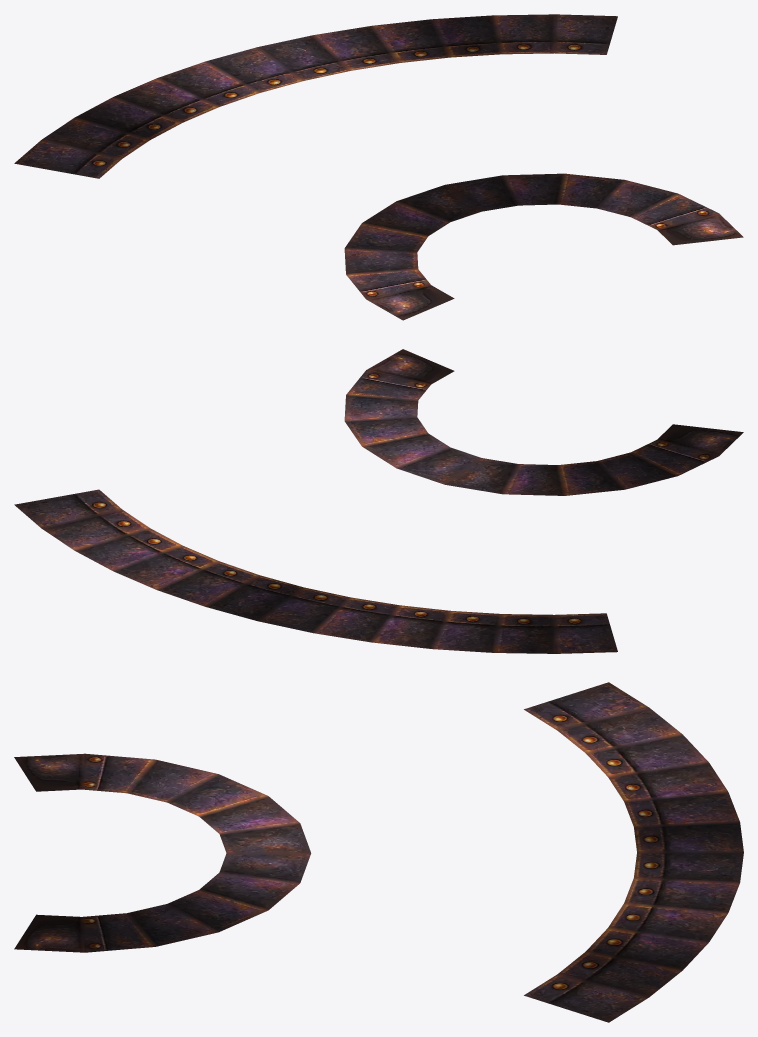
File: cauldron_fold.glb
3 views of the same model, one above another, from view 1: azimuth 30°, elevation 25°; view 2: azimuth 150°, elevation 25°; view 3: azimuth 270°, elevation 25° (orthographic). The views are drawn at different scales.
Parts seen in each view (by area): view 1: GEO-cauldron; view 2: GEO-cauldron; view 3: GEO-cauldron.
Part boxes in pixels (left/top/right/bottom): GEO-cauldron: left=14, top=14, right=743, bottom=320; GEO-cauldron: left=14, top=349, right=743, bottom=653; GEO-cauldron: left=14, top=682, right=743, bottom=1022.
Size of the model in its own units: 2.93 by 0.003 by 2.65.
Materials: 1 (1 with a texture image).
